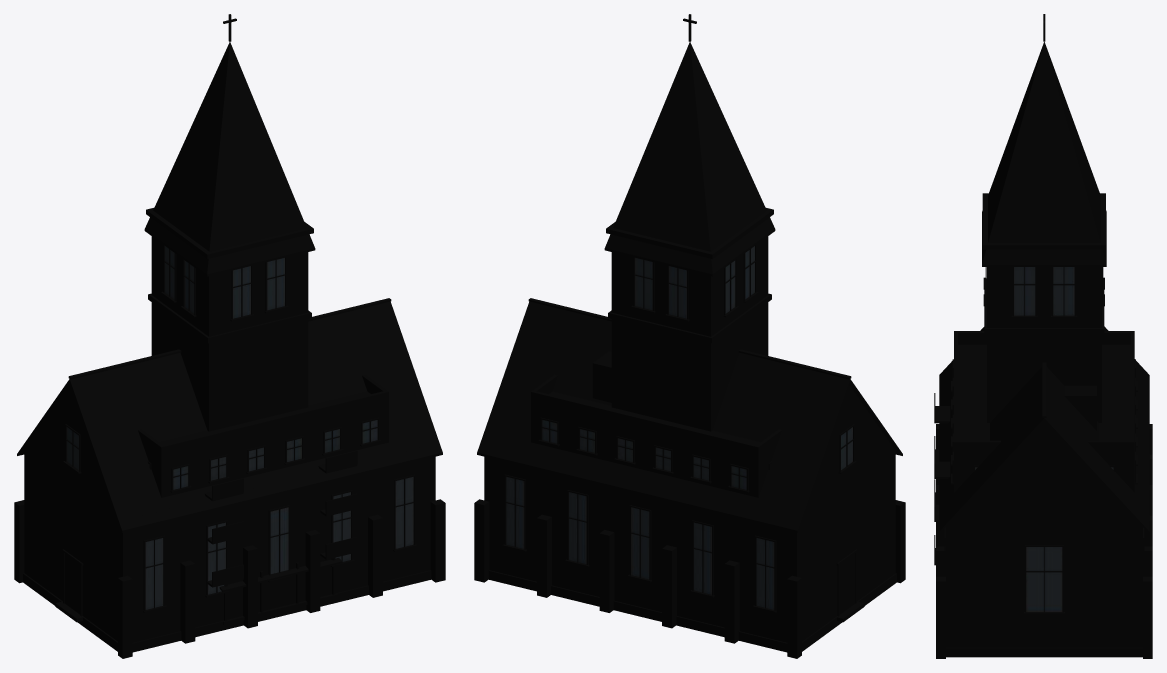
File: houses.glb
3 renders of one model, left to right at view 1: azimuth 30°, elevation 25°; view 2: azimuth 150°, elevation 25°; view 3: azimuth 270°, elevation 25°, orthographic.
Visible parts, largest first — view 1: house_church, house_tower, house_block, house_clapboard; view 2: house_church, house_tower, house_block; view 3: house_church, house_tower, house_block.
Boxes of the visible parts, bbox=[...] form: house_church: bbox=[14, 298, 445, 658]; house_tower: bbox=[144, 14, 315, 431]; house_block: bbox=[138, 374, 388, 587]; house_clapboard: bbox=[219, 557, 342, 624]; house_church: bbox=[474, 298, 905, 658]; house_tower: bbox=[604, 14, 775, 431]; house_block: bbox=[531, 351, 781, 497]; house_church: bbox=[936, 326, 1152, 658]; house_tower: bbox=[982, 14, 1106, 422]; house_block: bbox=[934, 331, 1137, 565].
Size of the model in its own units: 22.88 by 38.01 by 13.31.
Materials: 10 (10 with a texture image).
